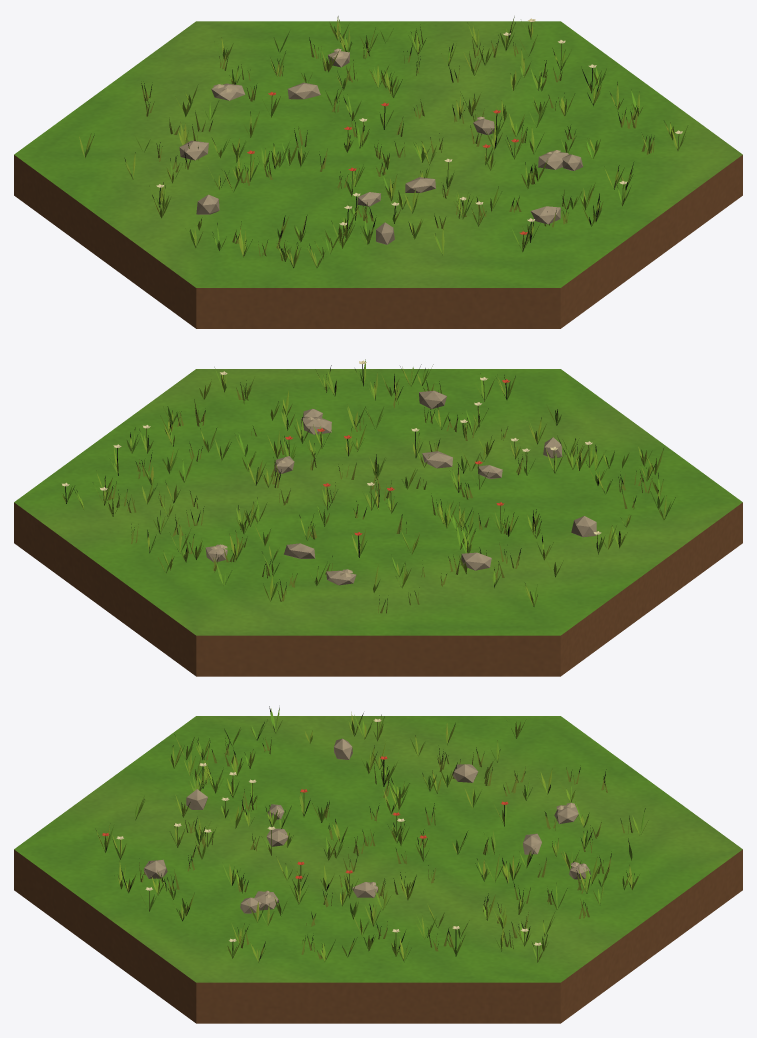
The model's file is SM_LlanuraNatural_A_Detalle_LOD0.fbx.
3 views of the same model, one above another, from view 1: azimuth 30°, elevation 25°; view 2: azimuth 150°, elevation 25°; view 3: azimuth 270°, elevation 25° (orthographic).
Parts seen in each view (by area): view 1: SM_LlanuraNatural_A_Detalle_LOD0; view 2: SM_LlanuraNatural_A_Detalle_LOD0; view 3: SM_LlanuraNatural_A_Detalle_LOD0.
Boxes of the visible parts, x1,y1,x2,y2 form: SM_LlanuraNatural_A_Detalle_LOD0: (14,16,742,328); SM_LlanuraNatural_A_Detalle_LOD0: (14,359,742,676); SM_LlanuraNatural_A_Detalle_LOD0: (14,706,742,1023).
Bounding box in the file's own units: 1.68 × 0.2107 × 1.94.
1 material, 1 textured.
